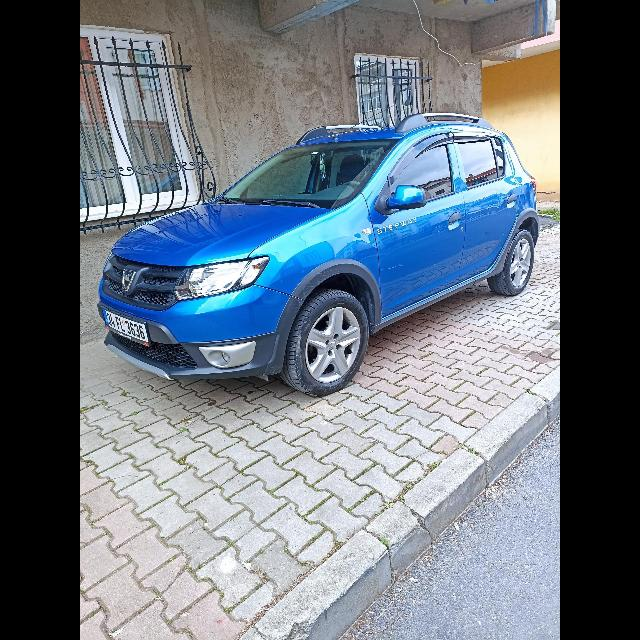Plaka: (104, 310, 148, 342)
